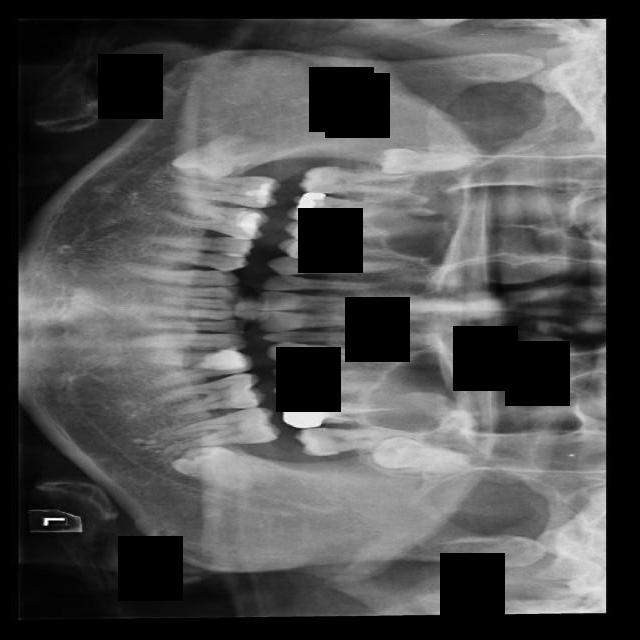3M ESPE Implant: (378, 144, 469, 176)
52: (283, 183, 327, 229), (221, 206, 270, 242), (235, 174, 281, 212), (278, 394, 326, 428)
73: (315, 399, 408, 429)
BioHorizons Implant: (292, 424, 410, 456)
BioLife Implant: (370, 435, 469, 474)
Biomet 3i Implant: (168, 431, 279, 505)
Blue Sky Bio Implant: (171, 406, 282, 450)
Caries: (298, 165, 411, 194)
Implant: (168, 172, 281, 210)
Keystone Dental Implant: (171, 115, 280, 195)
